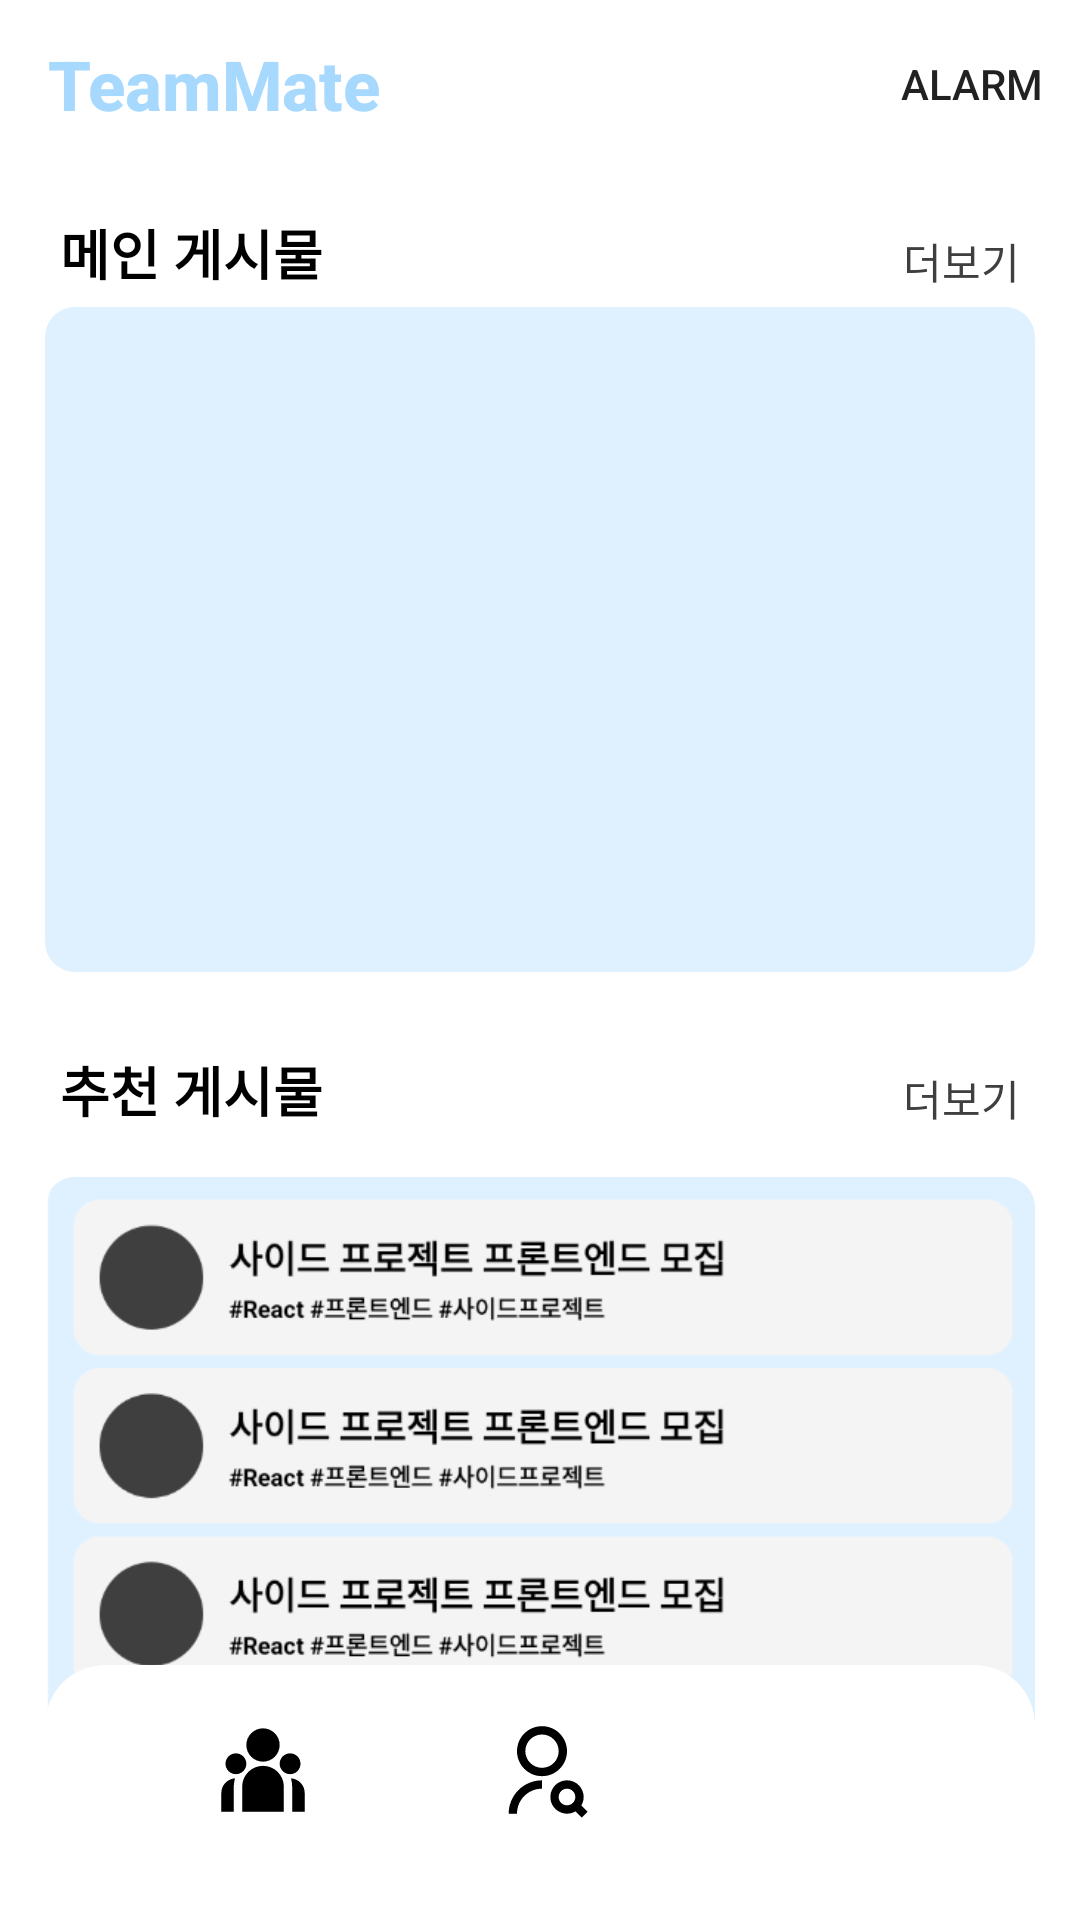

Icon click points for this 1080w x 1920h phone screenshot, format (x=x, y=y):
talent: (x=548, y=1772)
team: (x=263, y=1770)
